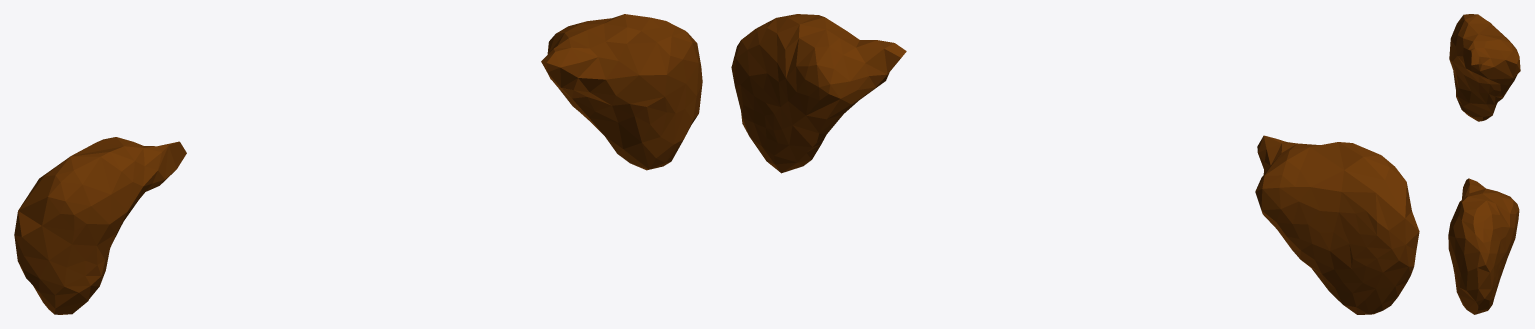
File: 69-Ipul-inferior pulvinar-('0.4980', '0.2471', '0.0000').obj
3 renders of one model, left to right at view 1: azimuth 30°, elevation 25°; view 2: azimuth 150°, elevation 25°; view 3: azimuth 270°, elevation 25°, orthographic. The views are drawn at different scales.
Bounding box in the file's own units: 161 × 35.63 × 21.63.
